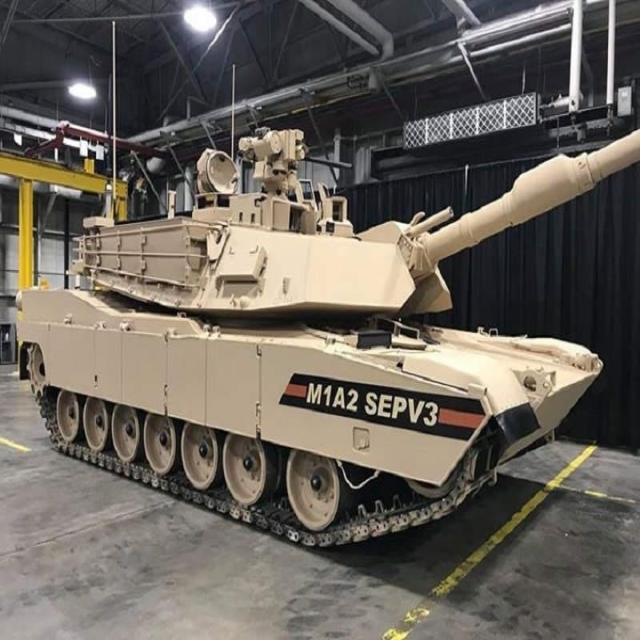Tanks: (24, 122, 630, 554)
